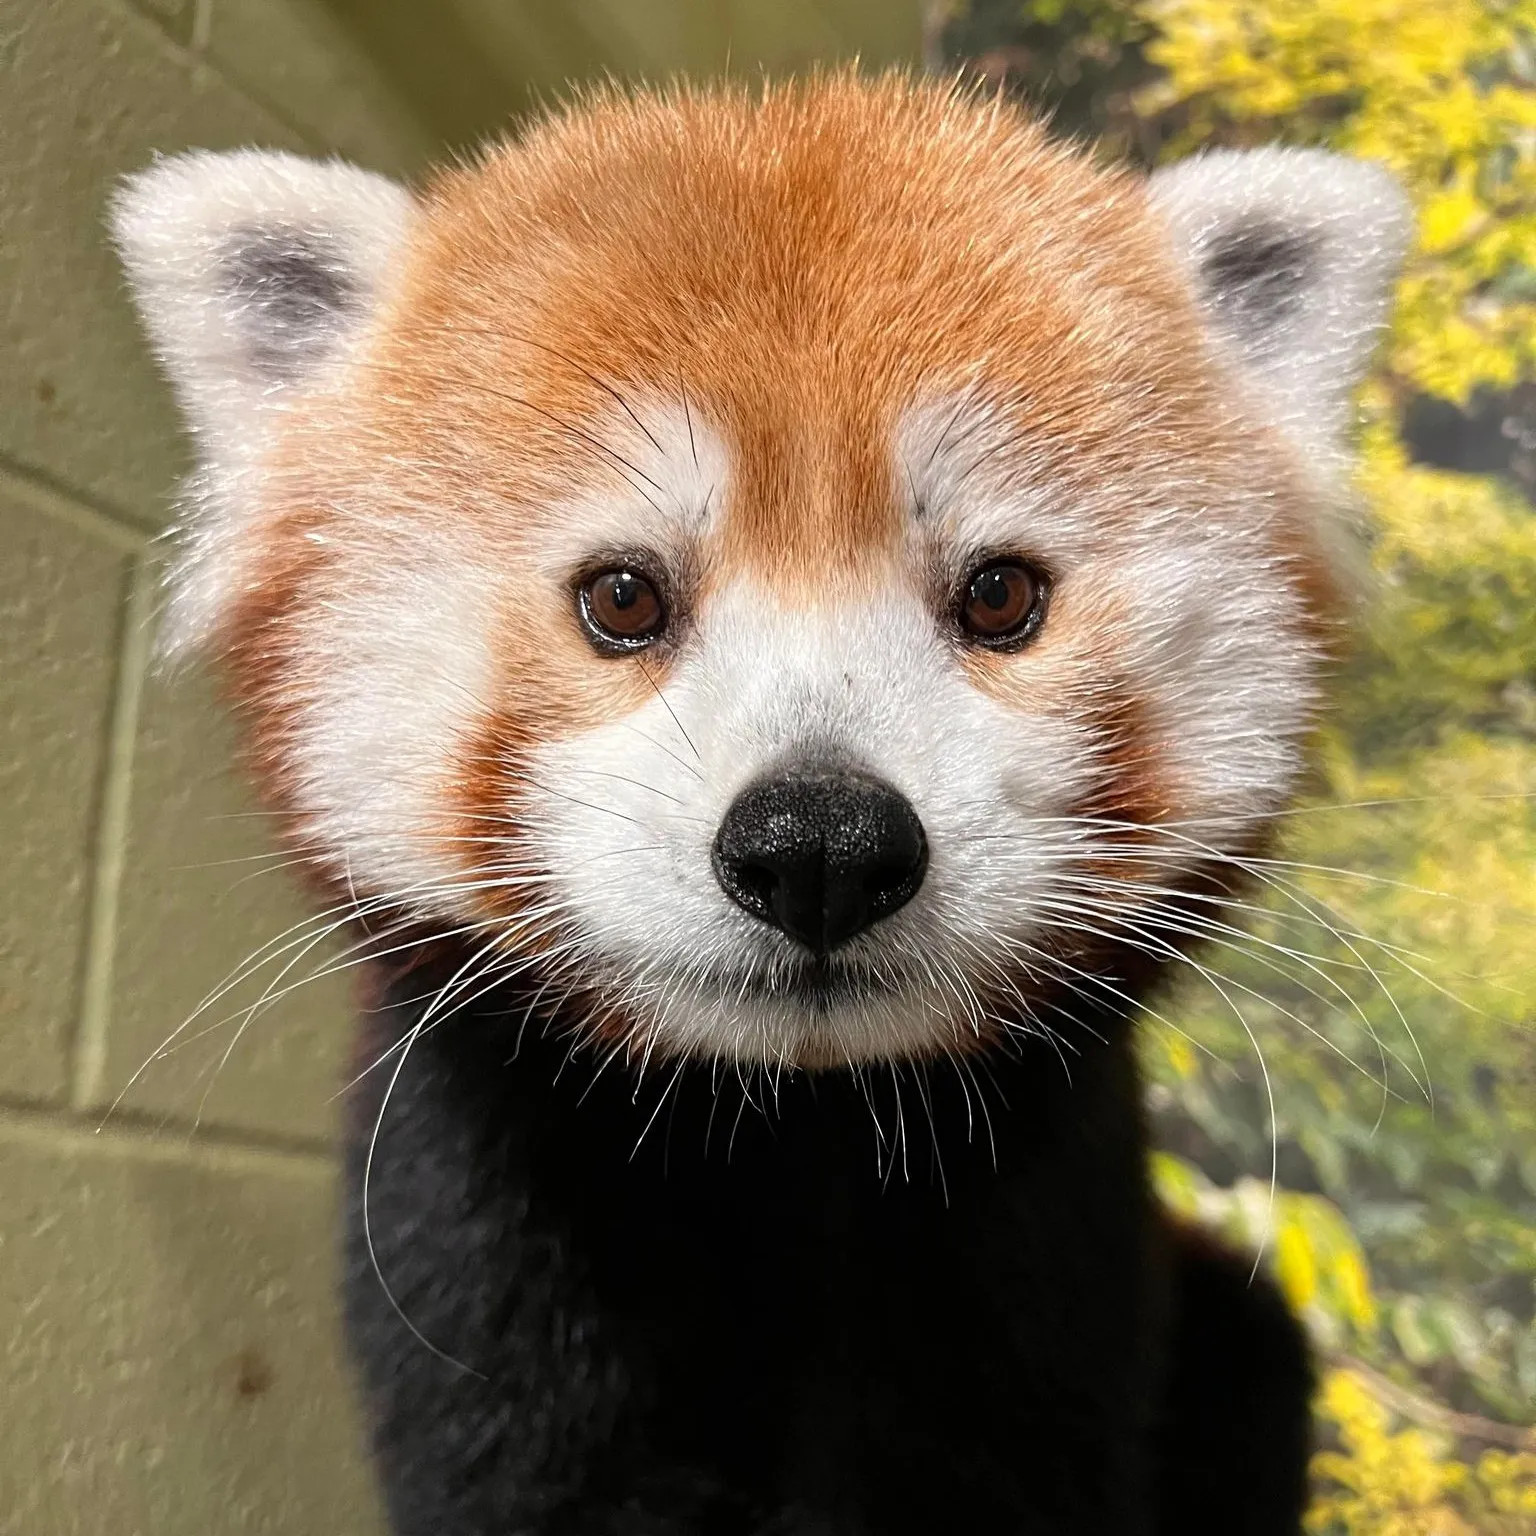Red panda: (98, 65, 1423, 1099)
